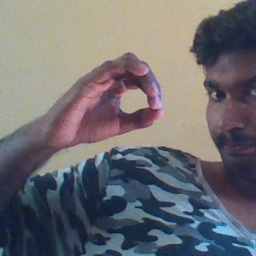O: (48, 48, 166, 151)
